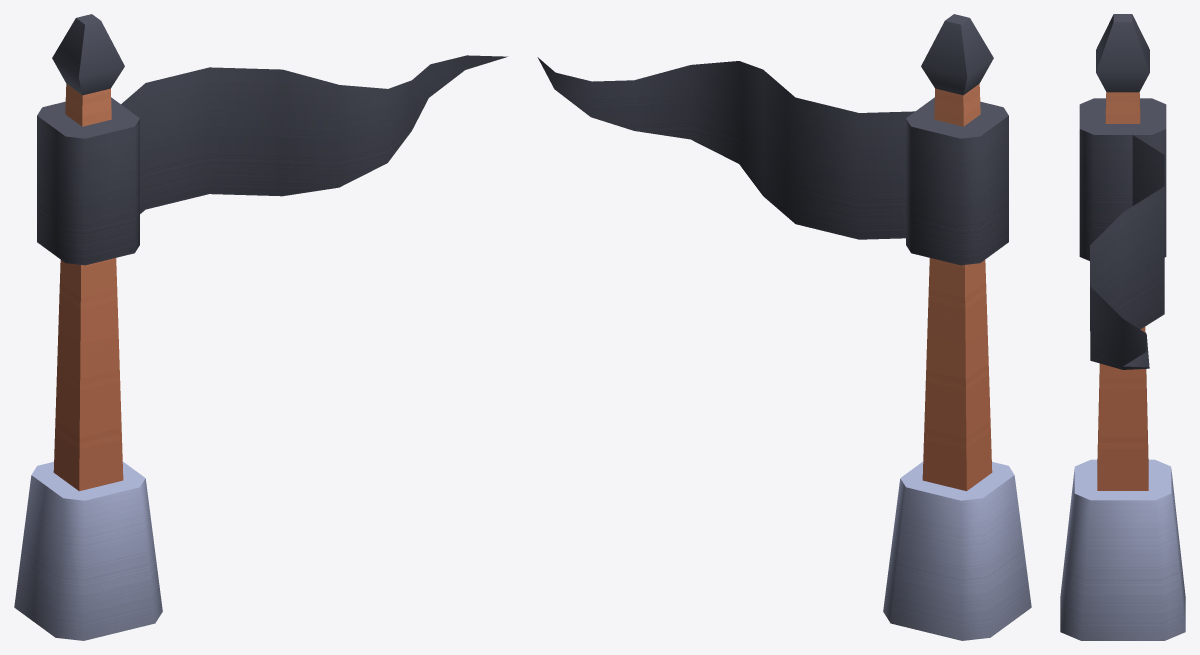
File: flag-pirate-pennant.glb
3 renders of one model, left to right at view 1: azimuth 30°, elevation 25°; view 2: azimuth 150°, elevation 25°; view 3: azimuth 270°, elevation 25°, orthographic.
Visible parts, largest first — view 1: flag-pirate-pennant; view 2: flag-pirate-pennant; view 3: flag-pirate-pennant.
Boxes of the visible parts, <box> form: flag-pirate-pennant: <box>14,14,507,640</box>; flag-pirate-pennant: <box>537,14,1031,640</box>; flag-pirate-pennant: <box>1060,14,1185,640</box>.
Size of the model in its own units: 1.76 by 2.1 by 0.3989.
1 material, 1 textured.
